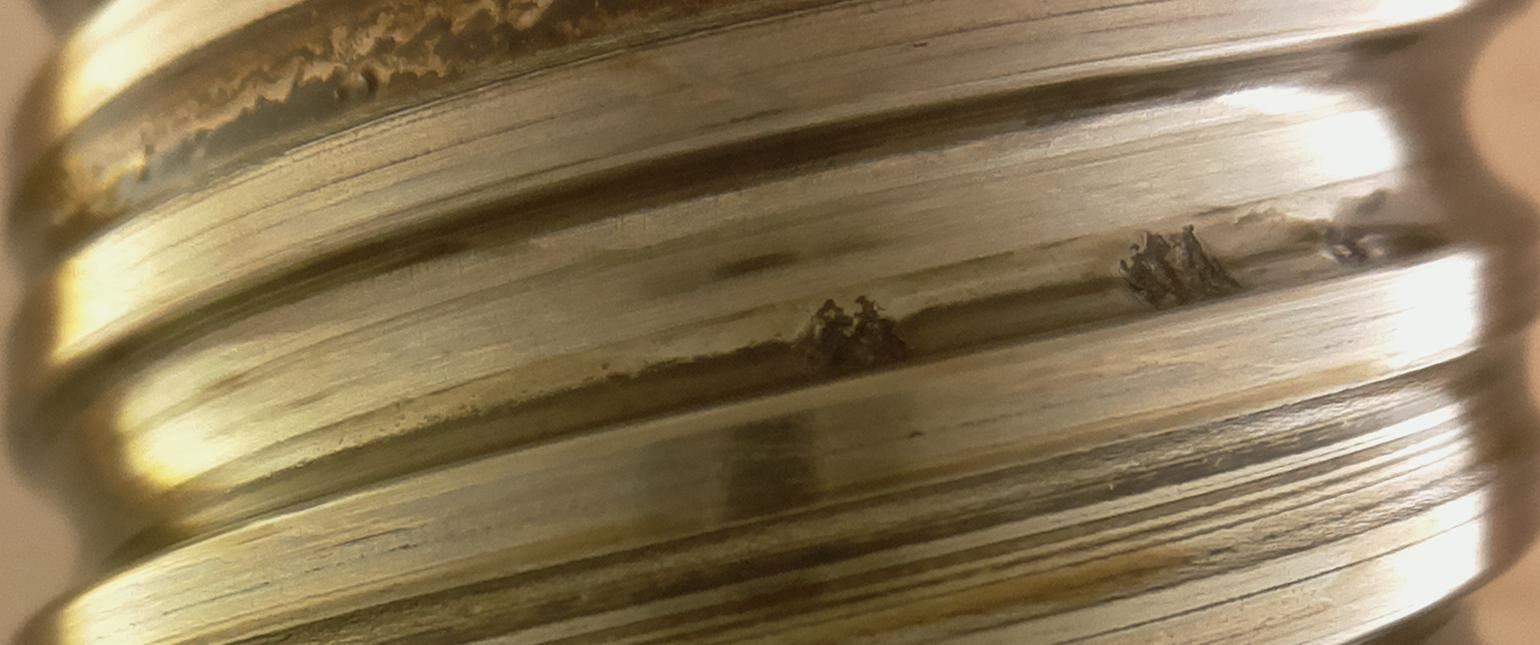pitting: (1119, 223, 1244, 309), (812, 294, 912, 376), (1322, 226, 1362, 269)
